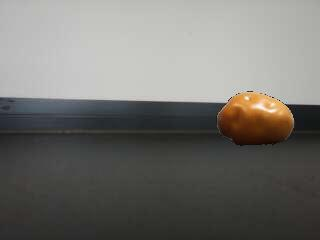Potato: (220, 92, 296, 148)
